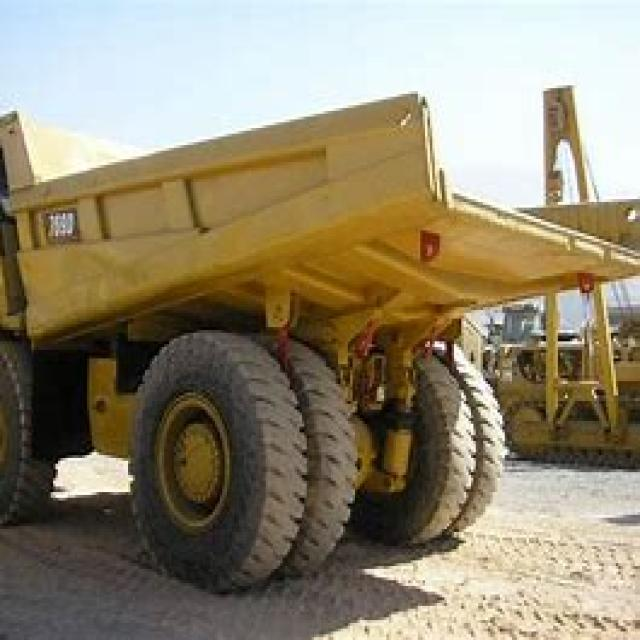dump_truck: (7, 77, 623, 589)
